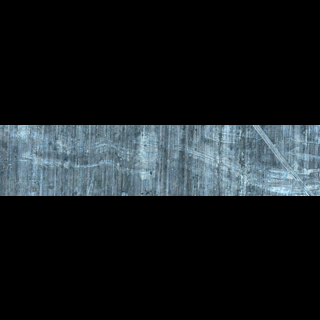d: (15, 133, 158, 166), (248, 124, 317, 192), (173, 124, 246, 173), (128, 131, 162, 183)
